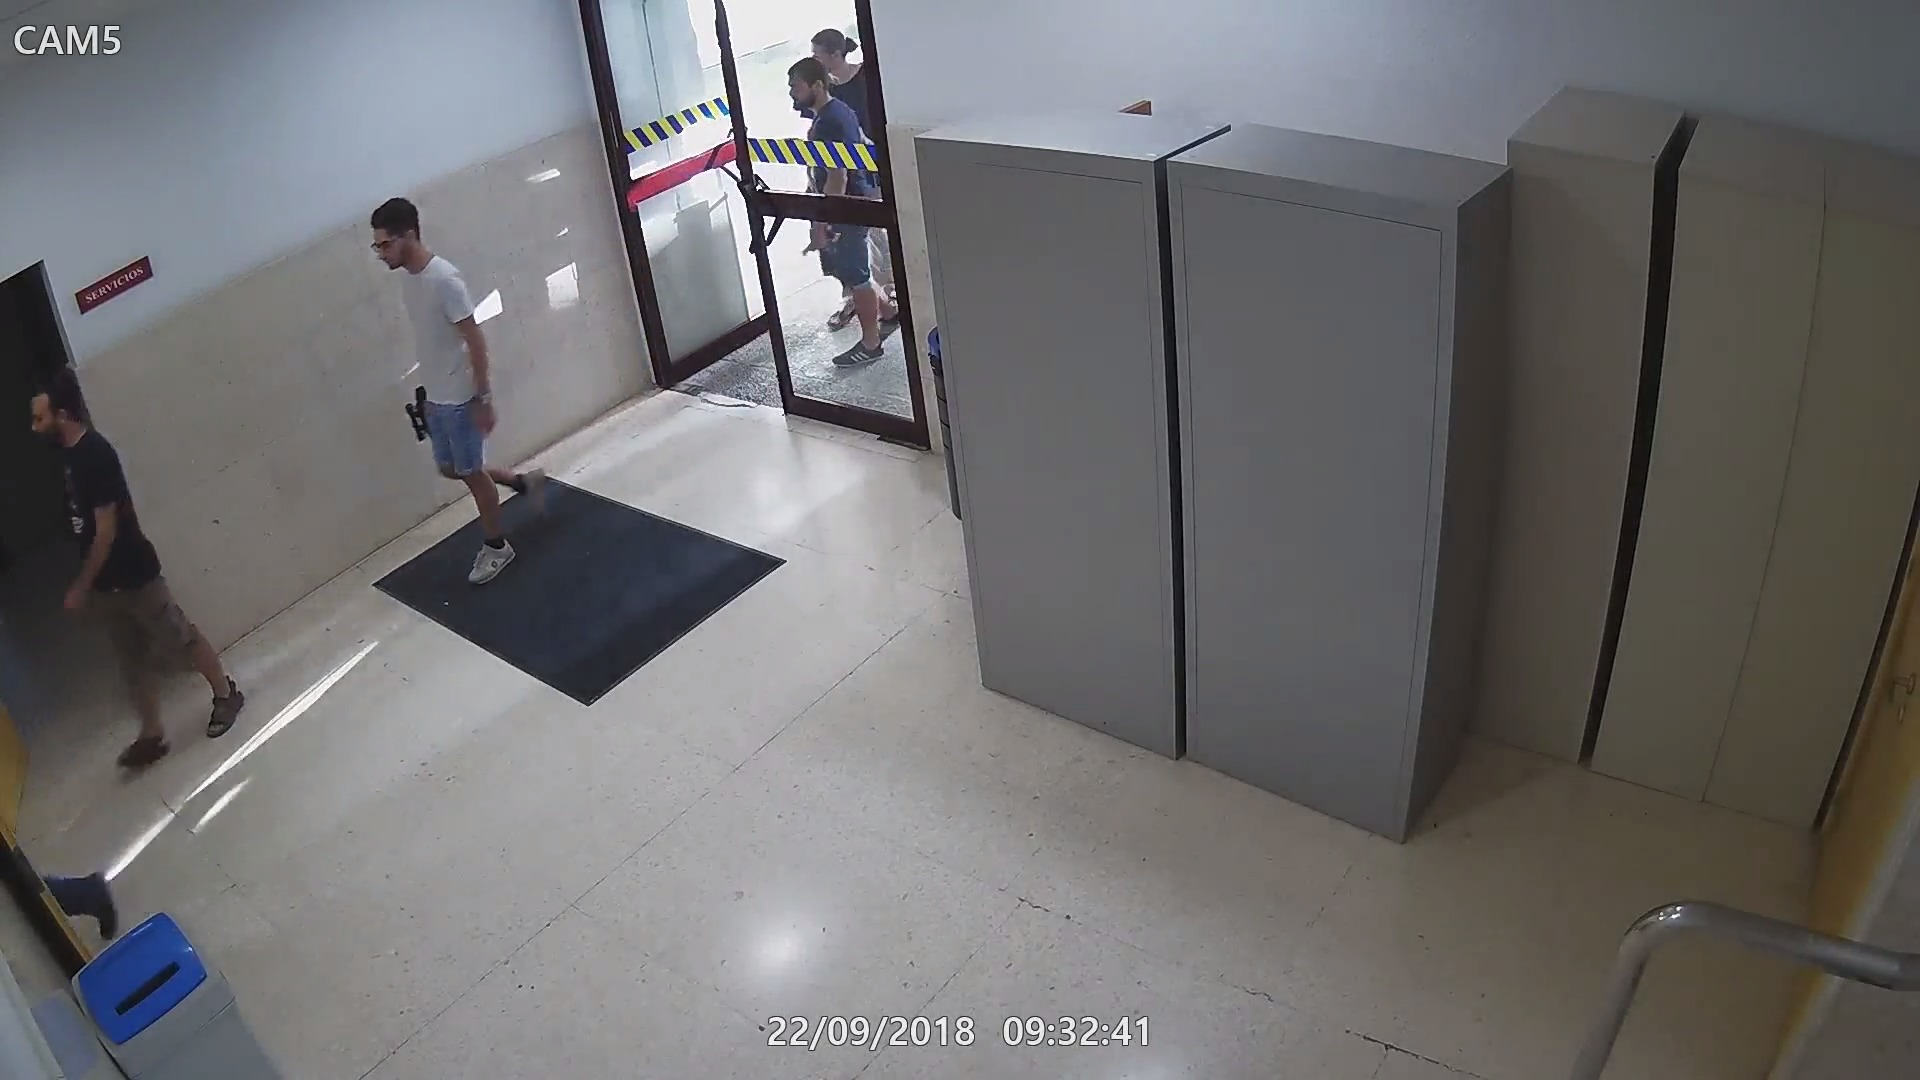Handgun: (802, 227, 837, 268)
Short_rifle: (401, 378, 433, 454)
